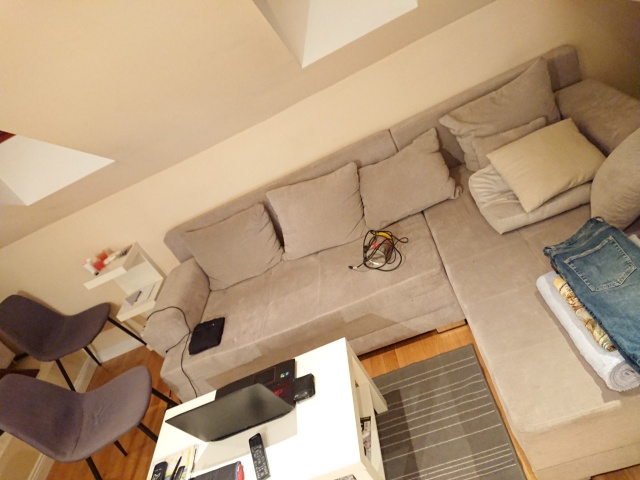Nescafe Classic 225g: (364, 230, 396, 269)
